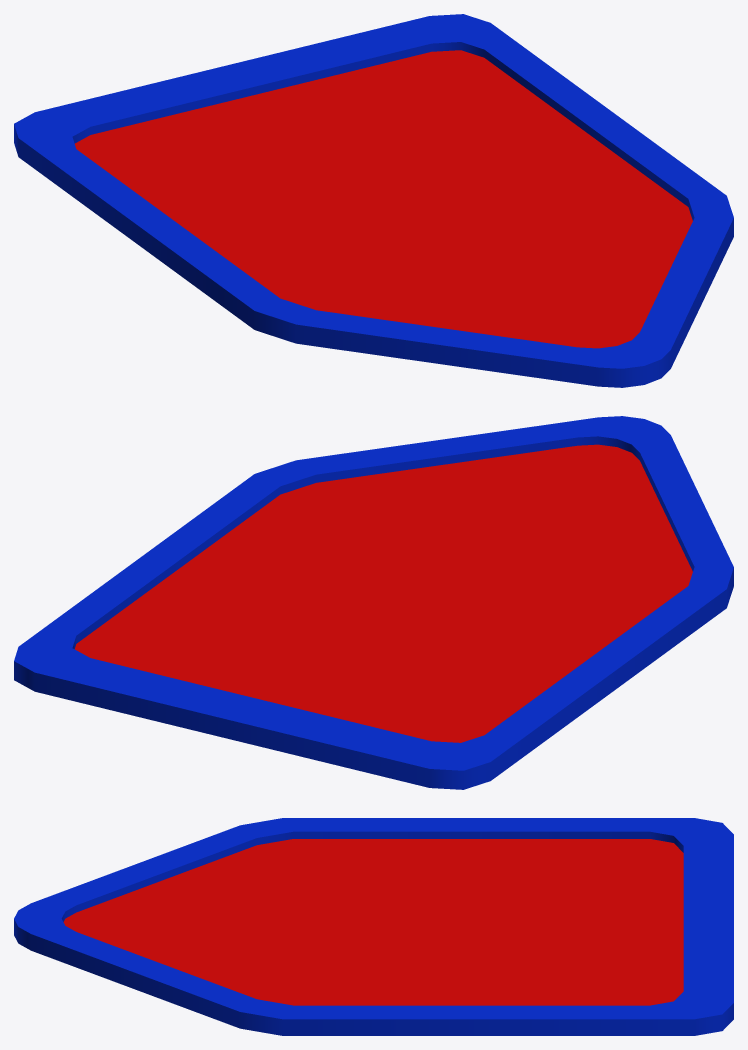
File: Troop_Shield_2.fbx
3 views of the same model, one above another, from view 1: azimuth 30°, elevation 25°; view 2: azimuth 150°, elevation 25°; view 3: azimuth 270°, elevation 25° (orthographic). The views are drawn at different scales.
Visible parts, largest first — view 1: Plane.001; view 2: Plane.001; view 3: Plane.001.
Boxes of the visible parts, <box> form: Plane.001: <box>14,14,733,387</box>; Plane.001: <box>14,416,733,789</box>; Plane.001: <box>14,818,733,1035</box>.
Size of the model in its own units: 624 by 24.13 by 944.
